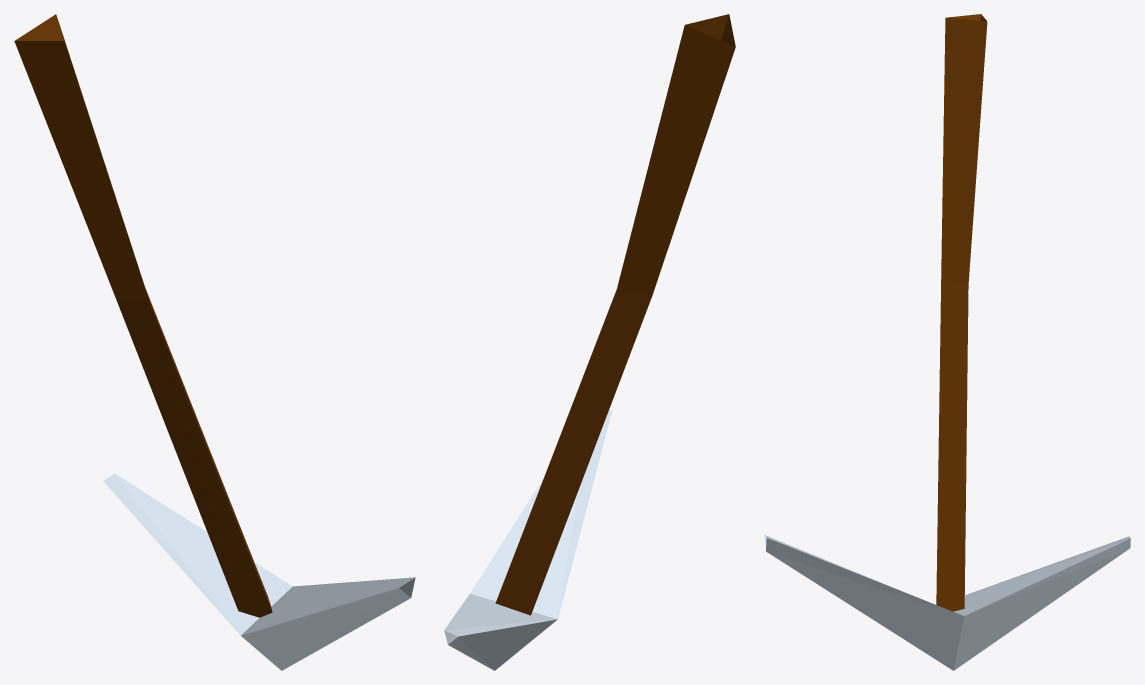
File: Spitzhacke_2035.glb
3 renders of one model, left to right at view 1: azimuth 30°, elevation 25°; view 2: azimuth 150°, elevation 25°; view 3: azimuth 270°, elevation 25°, orthographic. The views are drawn at different scales.
Parts seen in each view (by area): view 1: pCylinderShape28, pCylinderShape29; view 2: pCylinderShape28, pCylinderShape29; view 3: pCylinderShape28, pCylinderShape29.
Boxes of the visible parts, bbox=[...] form: pCylinderShape28: bbox=[14, 14, 272, 617]; pCylinderShape29: bbox=[103, 473, 415, 670]; pCylinderShape28: bbox=[495, 14, 735, 615]; pCylinderShape29: bbox=[444, 410, 611, 670]; pCylinderShape28: bbox=[936, 14, 987, 611]; pCylinderShape29: bbox=[764, 535, 1130, 670].
Size of the model in its own units: 0.0628 by 0.1536 by 0.09.
